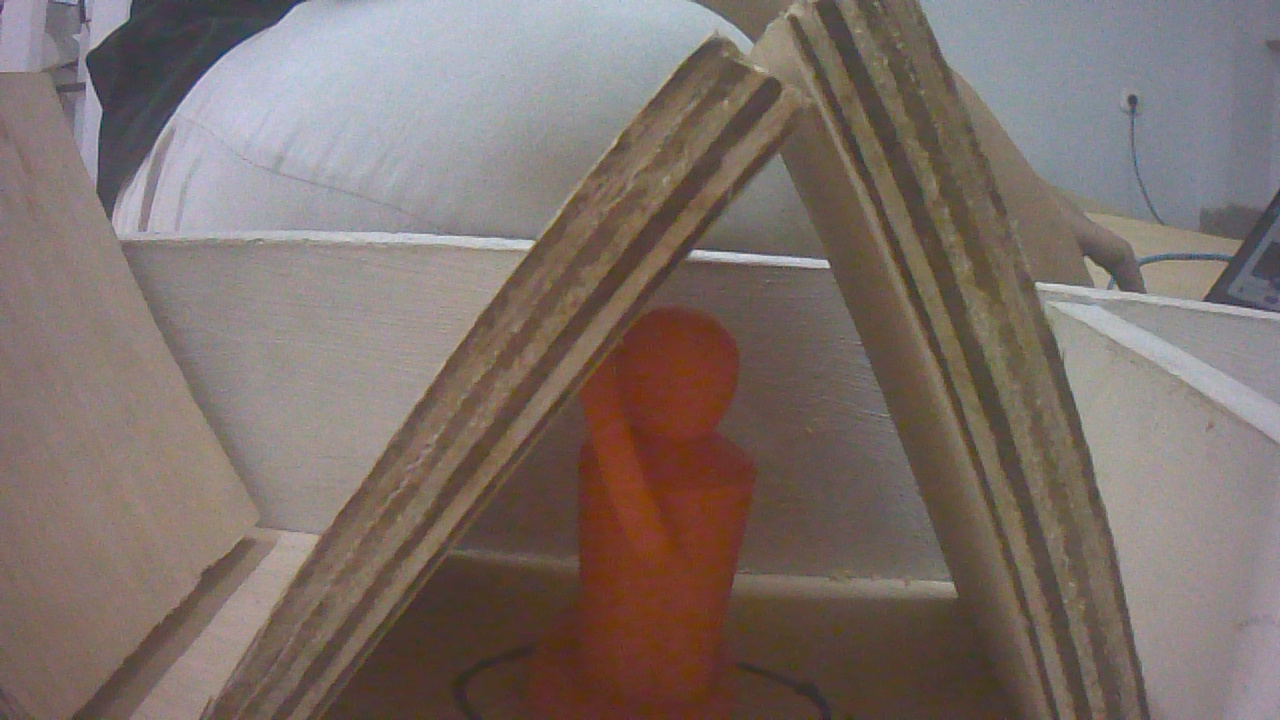real: (544, 313, 770, 720)
